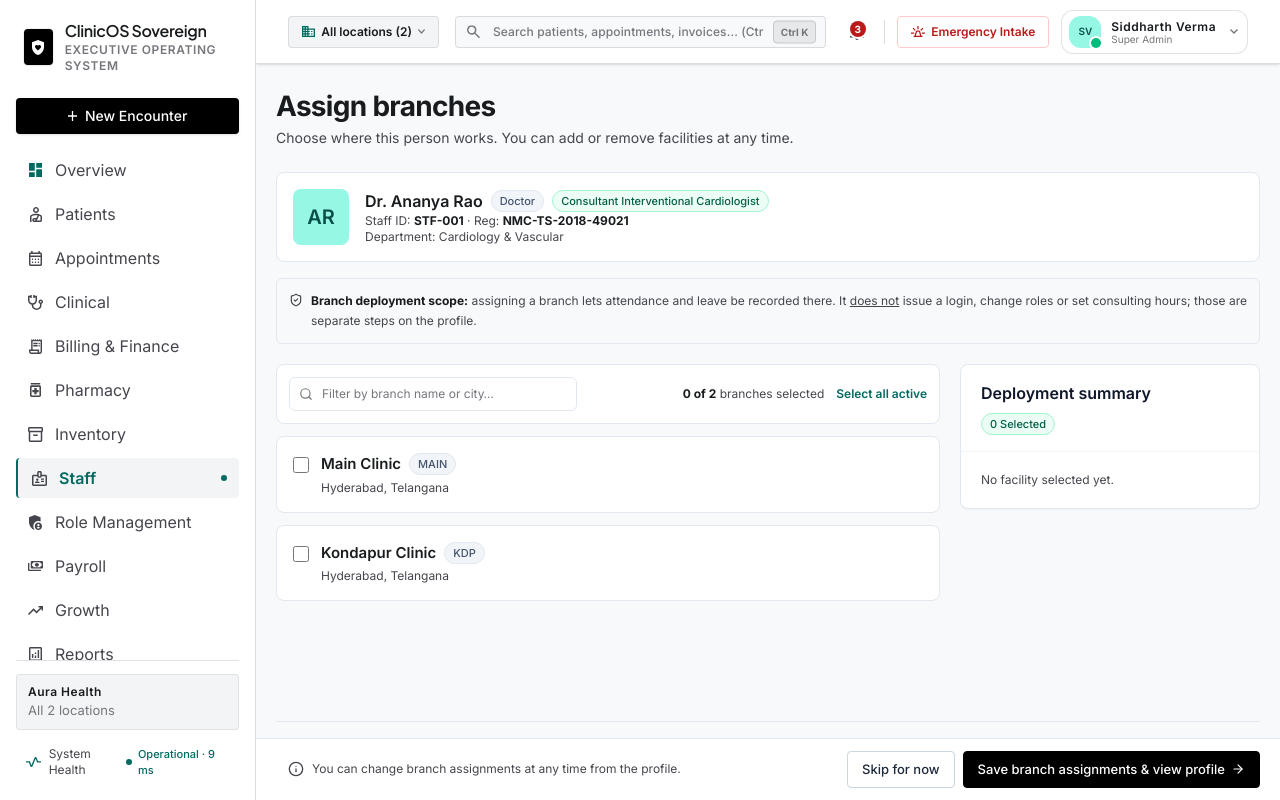
add person, branches and profile › needs at least one branch before saving assignments
This screenshot has width=1280, height=800.
Click the button "Save branch assignments & view profile" at (1111, 769), box [963,750,1260,788]
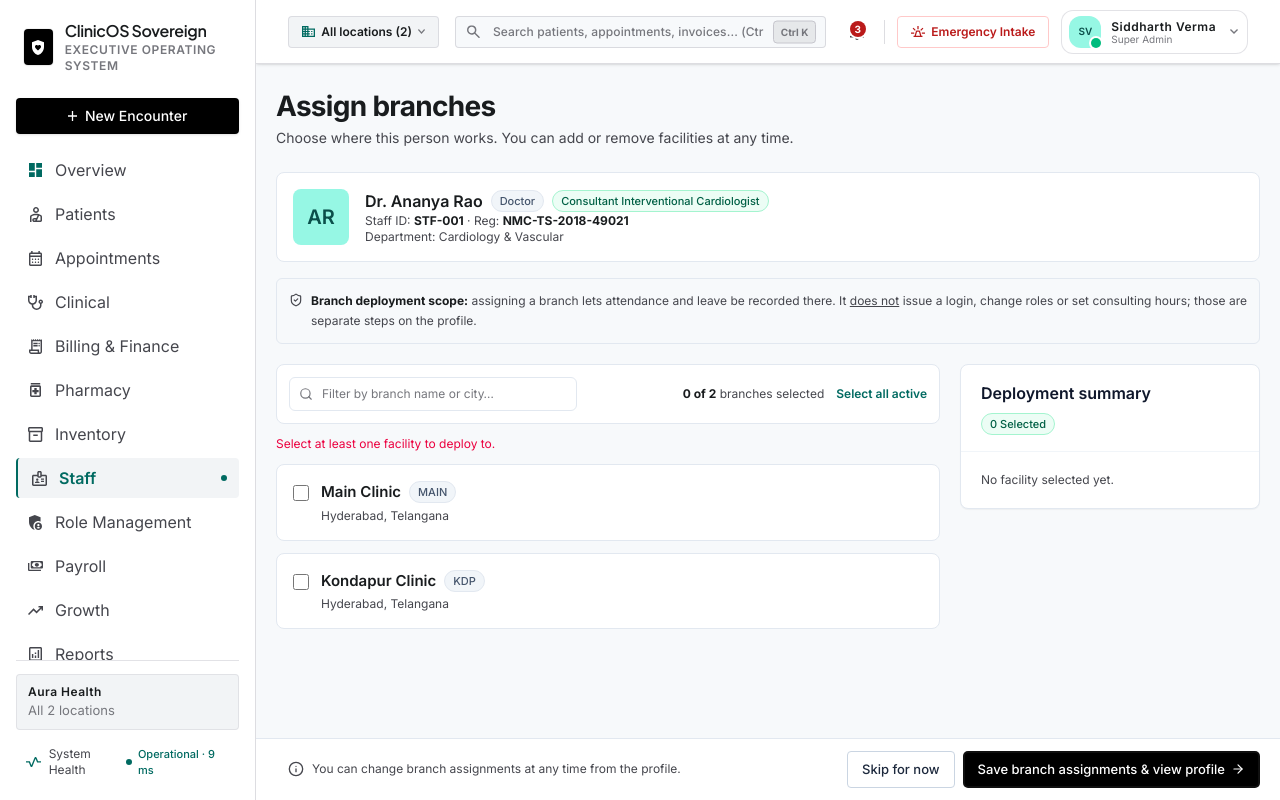
Result: the text "Select at least one facility to deploy to." is shown at [276,436,495,451]
